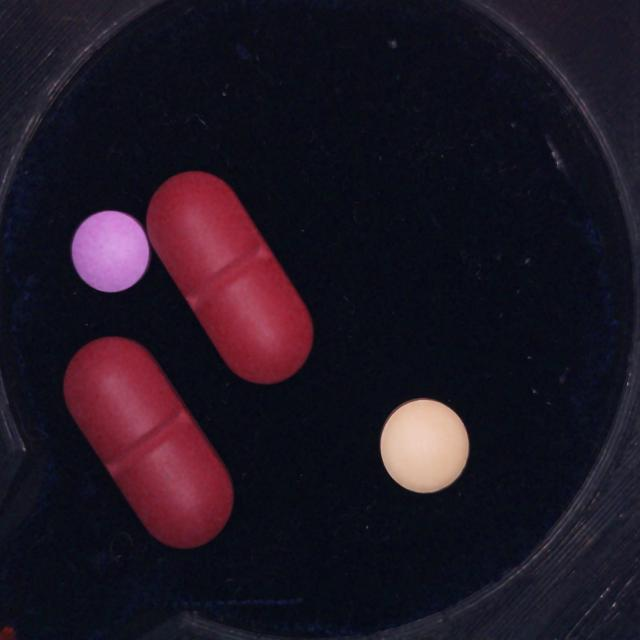Pill: (64, 337, 233, 548), (146, 172, 313, 384), (380, 399, 469, 493), (71, 211, 150, 292)
